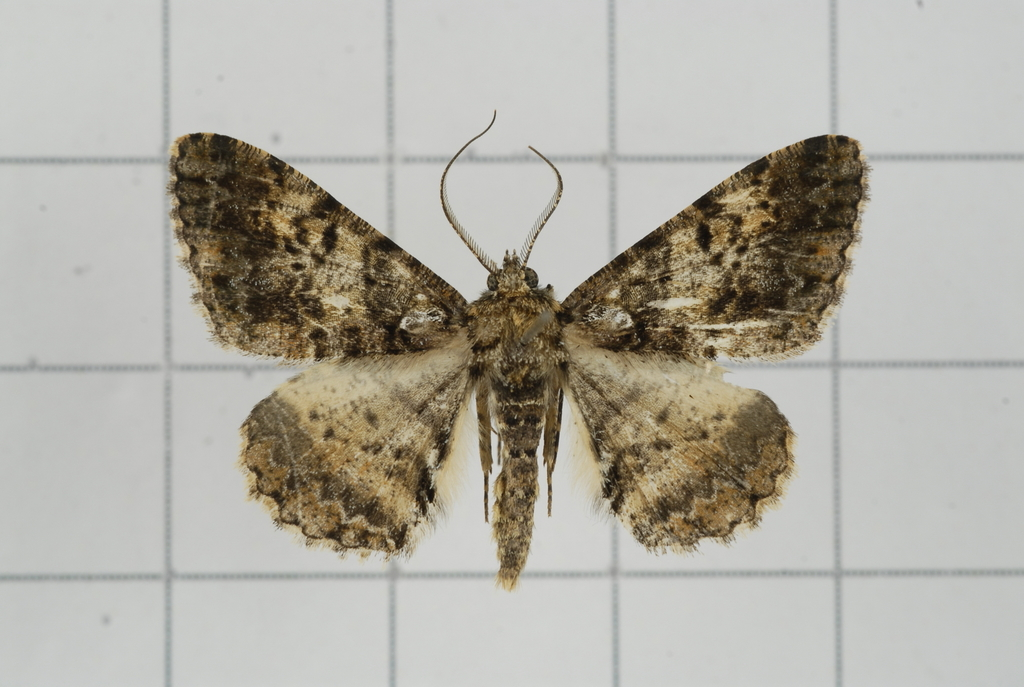Butterfly: (163, 117, 880, 580)
